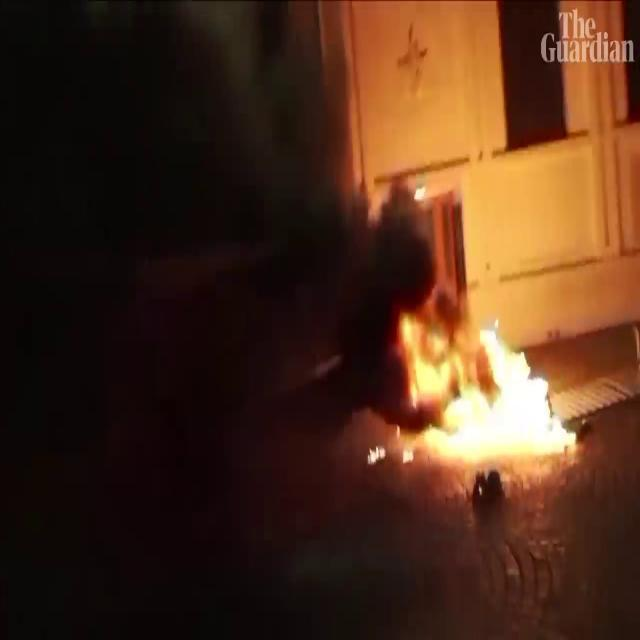Fire: (392, 288, 576, 470)
Smoke: (150, 0, 414, 449)
